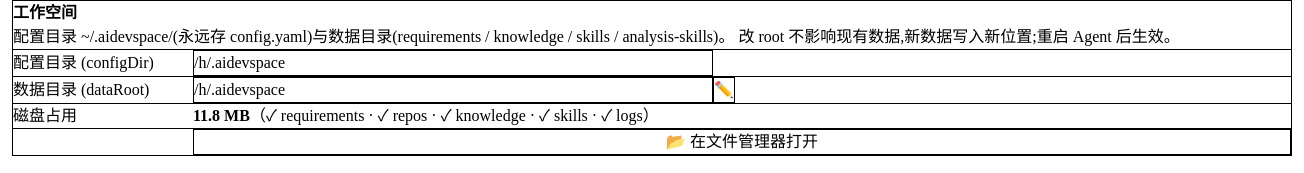
WorkspaceSection 行内编辑 v2 (ADR-0037 D5) › case 3: 点击 ✏️ → 进入 editing 模式,出现保存/取消按钮
Click the button with test id "edit-workspace-root" at [724, 90], box [713,77,735,103]
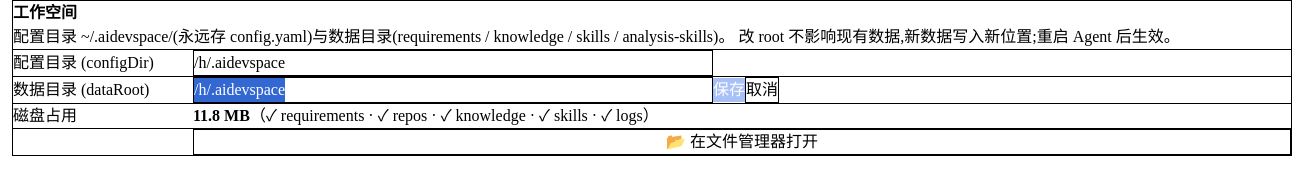
Result: the button with test id "save-workspace-root" is shown at [713,78,745,102]
Result: the button with test id "cancel-workspace-root" is shown at [745,77,779,103]
Result: the button with test id "edit-workspace-root" is gone
